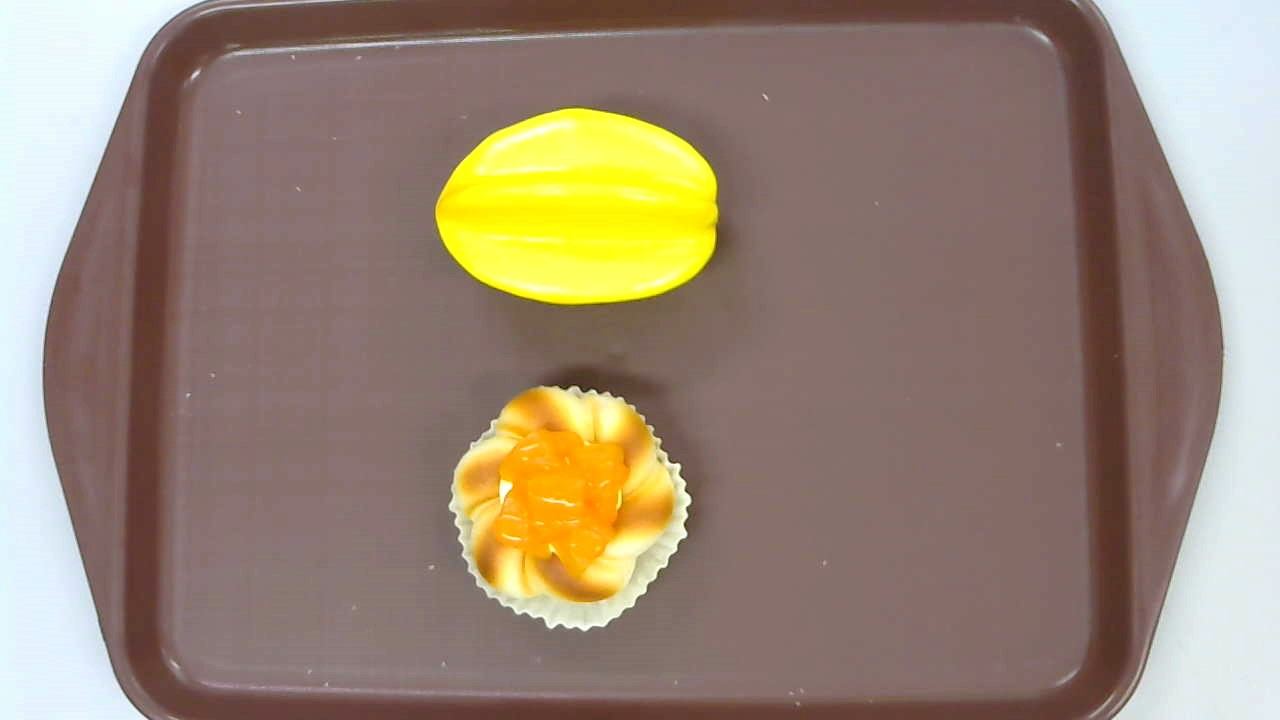mango tart: (447, 384, 694, 633)
star fruit: (432, 109, 720, 307)
